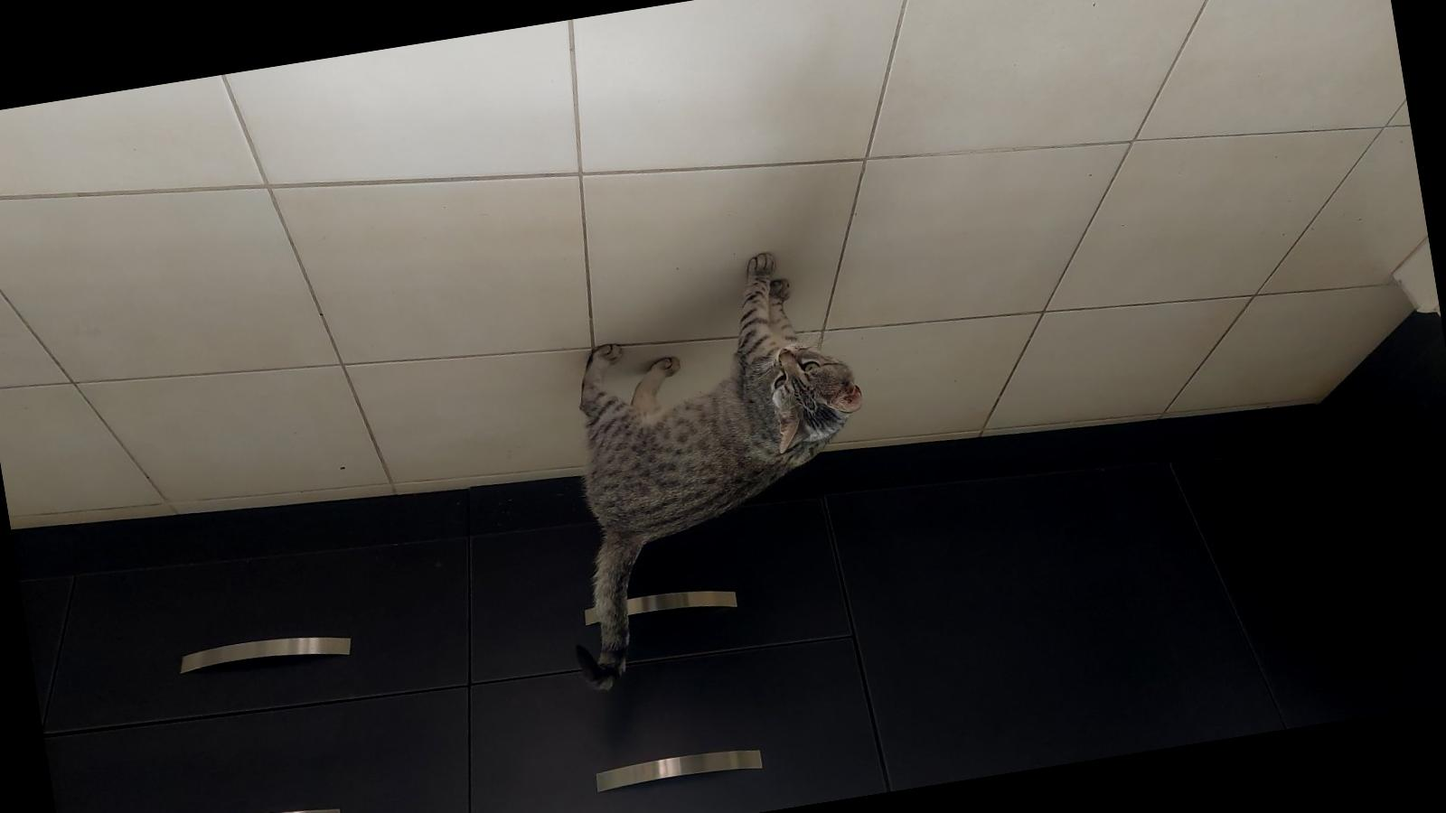macka: (516, 240, 901, 694)
